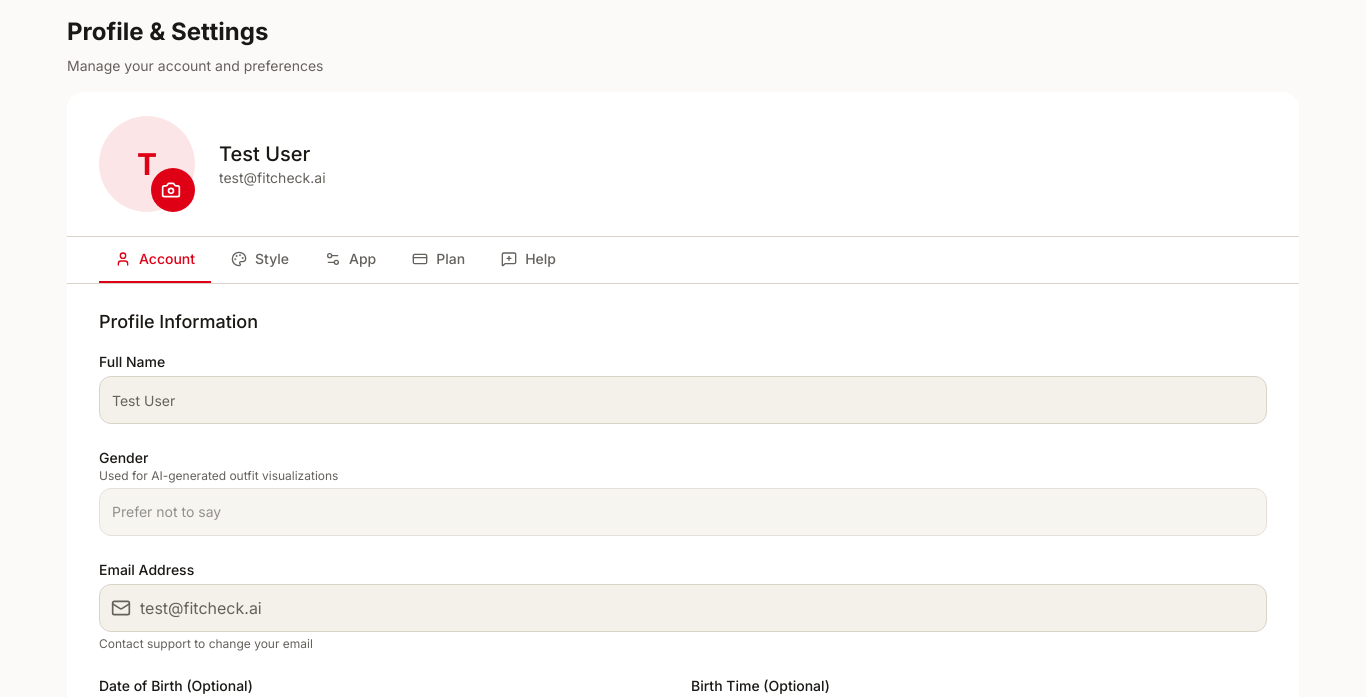
Test: ProfilePage desktop layout (≥md, matchMedia stubbed) › switches panels inline when a tab is clicked
Click the tab "Style".
click(260, 260)  # box [215,237,305,283]
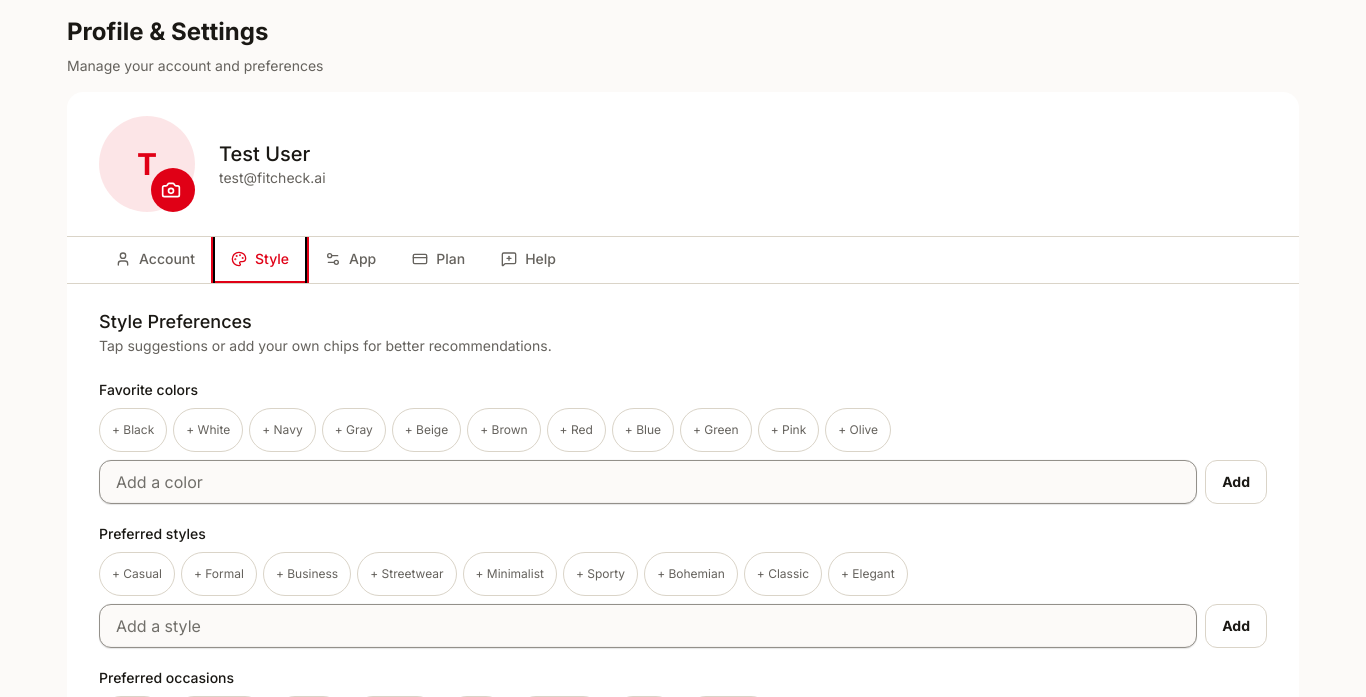
Now the heading "Style Preferences" is shown, box [99,311,252,332]
